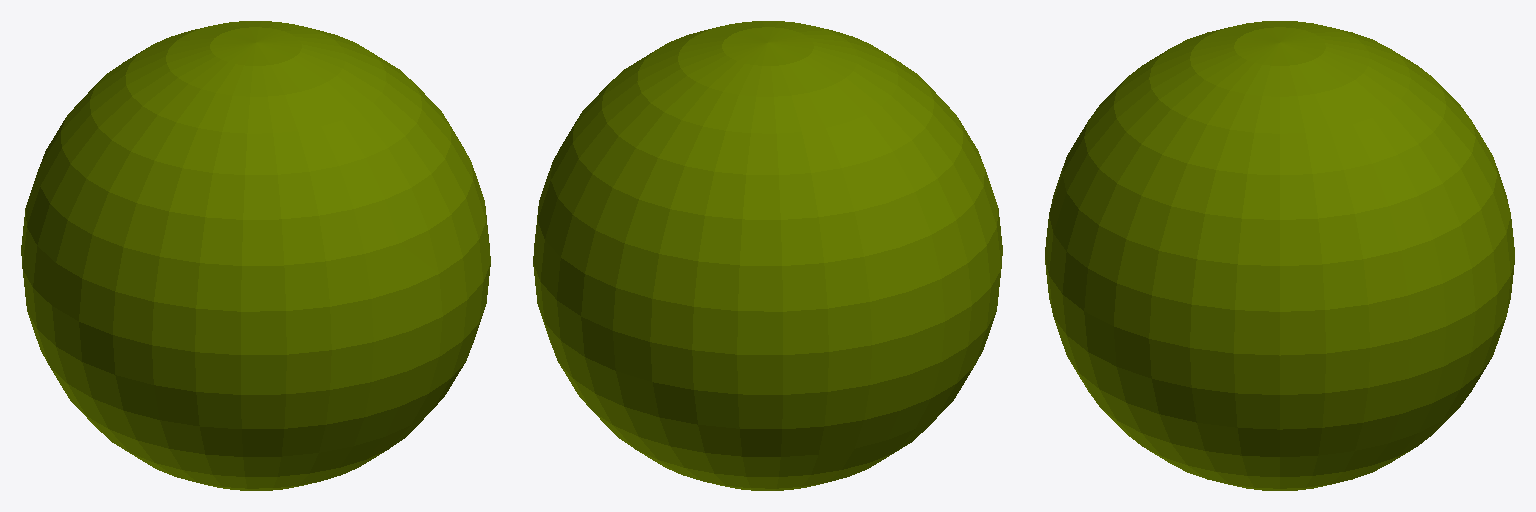
File: fireball_placeholder.obj
3 renders of one model, left to right at view 1: azimuth 30°, elevation 25°; view 2: azimuth 150°, elevation 25°; view 3: azimuth 270°, elevation 25°, orthographic.
Parts seen in each view (by area): view 1: Sphere001; view 2: Sphere001; view 3: Sphere001.
Boxes of the visible parts, x1,y1,x2,y2 form: Sphere001: [21, 21, 490, 490]; Sphere001: [533, 21, 1002, 490]; Sphere001: [1045, 21, 1514, 490].
Size of the model in its own units: 10 by 10 by 10.